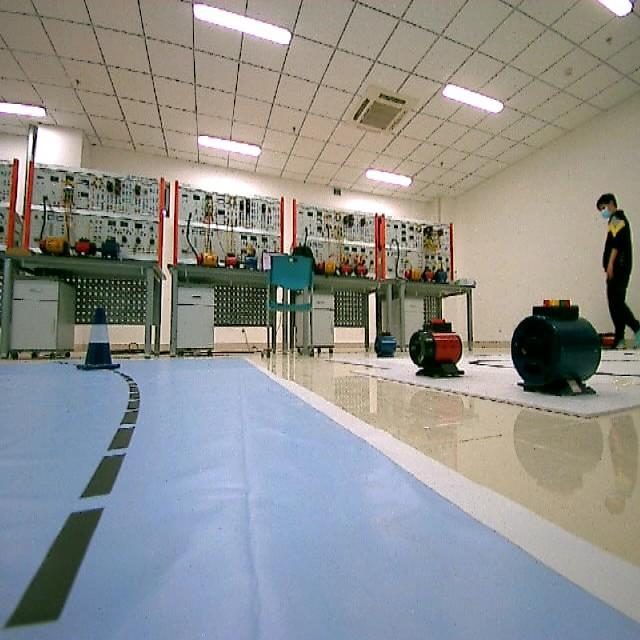obstacle: (75, 306, 120, 370)
